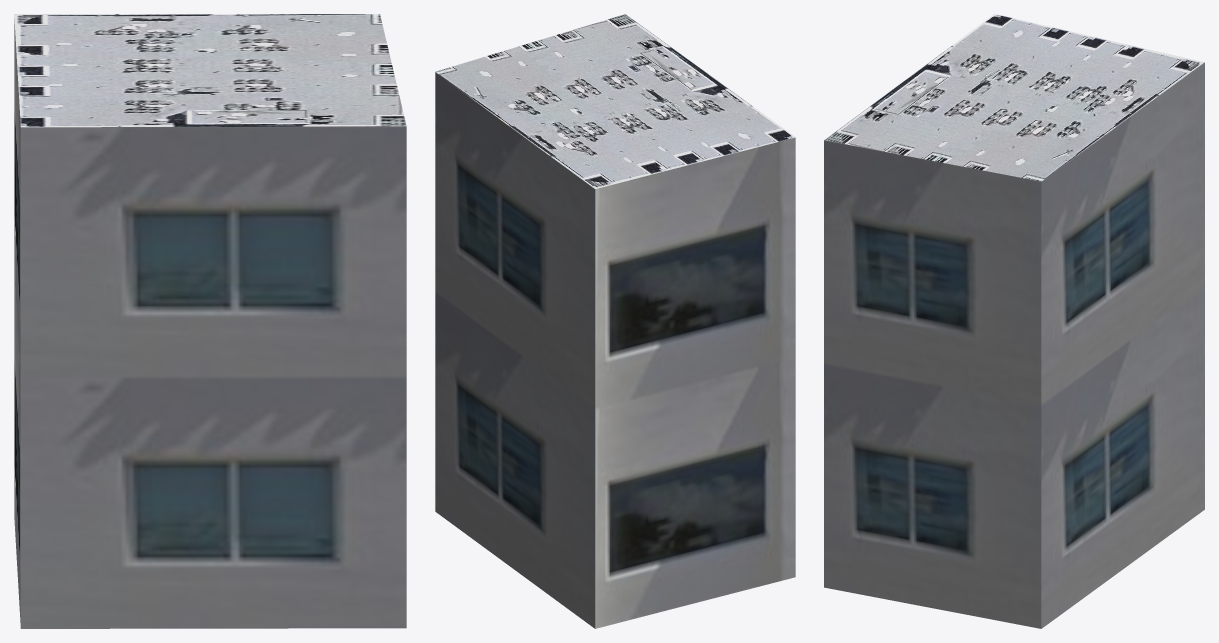
The model's file is ResTex__812.fbx.
3 renders of one model, left to right at view 1: azimuth 30°, elevation 25°; view 2: azimuth 150°, elevation 25°; view 3: azimuth 270°, elevation 25°, orthographic. The views are drawn at different scales.
Visible parts, largest first — view 1: CityEngineMaterial_10_m, CityEngineMaterial_4_m; view 2: CityEngineMaterial_10_m, CityEngineMaterial_4_m; view 3: CityEngineMaterial_10_m, CityEngineMaterial_4_m.
Part boxes in pixels (x1=…): CityEngineMaterial_10_m: x1=14, y1=19, x2=406, y2=628; CityEngineMaterial_4_m: x1=14, y1=14, x2=406, y2=127; CityEngineMaterial_10_m: x1=435, y1=72, x2=795, y2=628; CityEngineMaterial_4_m: x1=435, y1=14, x2=795, y2=189; CityEngineMaterial_10_m: x1=824, y1=62, x2=1204, y2=628; CityEngineMaterial_4_m: x1=824, y1=14, x2=1204, y2=181.
Bounding box in the file's own units: 4.82 × 6 × 4.63.
2 materials, 2 textured.
